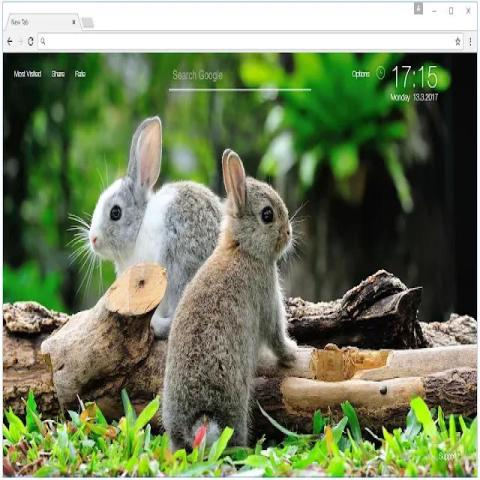small_animal: (158, 147, 304, 455), (66, 114, 228, 339)
